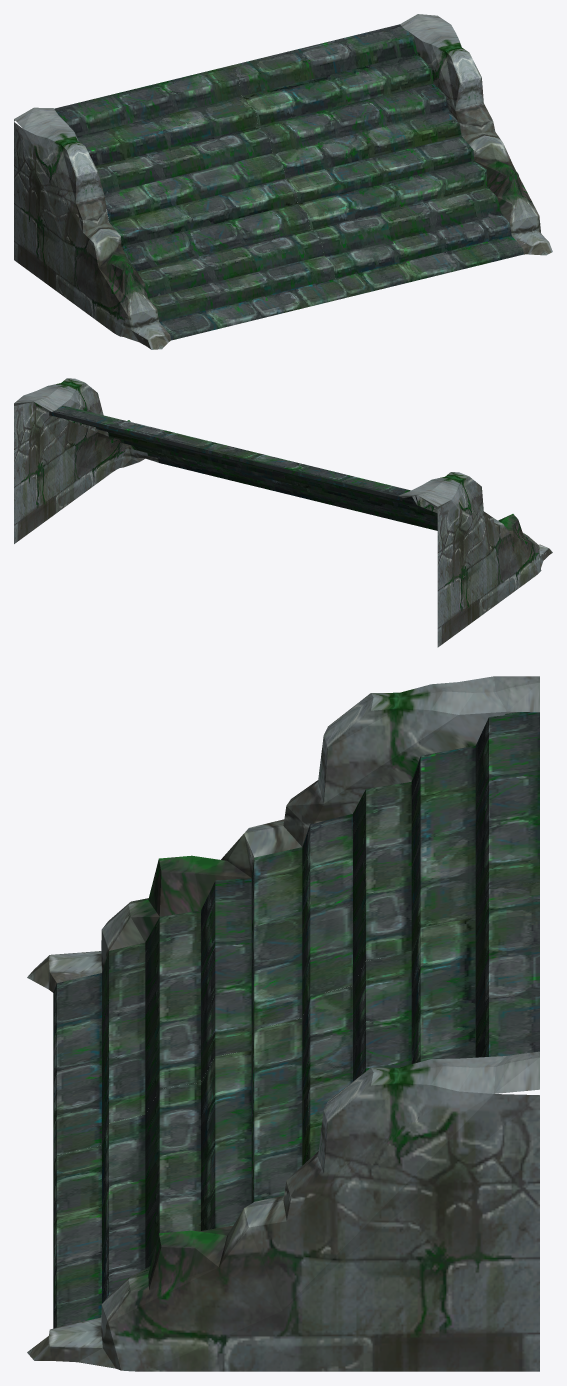
The model's file is stemple_half_stair_02.fbx.
3 views of the same model, one above another, from view 1: azimuth 30°, elevation 25°; view 2: azimuth 150°, elevation 25°; view 3: azimuth 270°, elevation 25° (orthographic). The views are drawn at different scales.
Visible parts, largest first — view 1: obj1.029; view 2: obj1.029; view 3: obj1.029.
Part boxes in pixels (<box>): obj1.029: <box>14,14,552,349</box>; obj1.029: <box>14,378,552,647</box>; obj1.029: <box>27,676,539,1371</box>.
Bounding box in the file's own units: 8.91 × 2.94 × 4.63.
